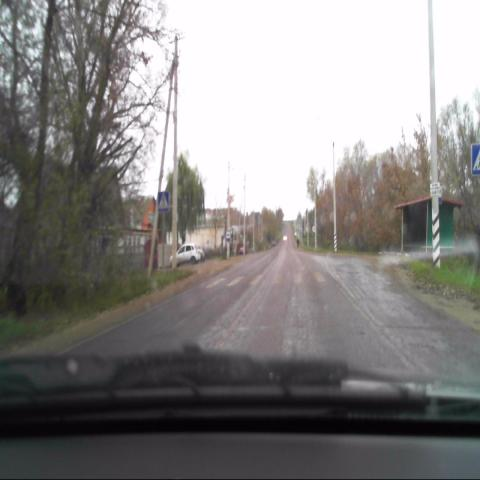5_16: (226, 228, 233, 242)
5_19_1: (158, 191, 169, 211)
